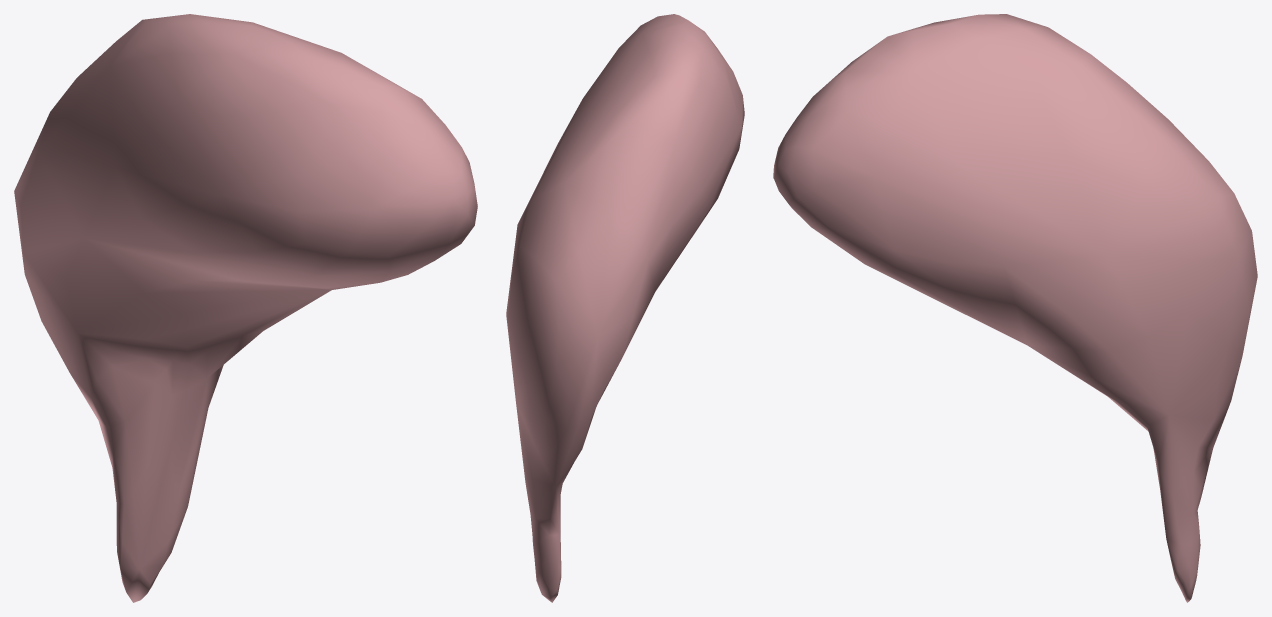
The picture shows the model from 3 angles, left to right: view 1: azimuth 30°, elevation 25°; view 2: azimuth 150°, elevation 25°; view 3: azimuth 270°, elevation 25°; orthographic projection. The views are drawn at different scales.
Visible parts, largest first — view 1: ZA_d4986d55fb604278; view 2: ZA_d4986d55fb604278; view 3: ZA_d4986d55fb604278.
Boxes of the visible parts, x1,y1,x2,y2 form: ZA_d4986d55fb604278: (14, 14, 477, 602); ZA_d4986d55fb604278: (506, 14, 744, 602); ZA_d4986d55fb604278: (773, 14, 1257, 602).
Size of the model in its own units: 0.00897 by 0.0247 by 0.0191.
